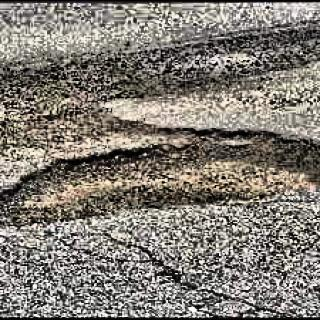crack: (4, 120, 320, 230)
